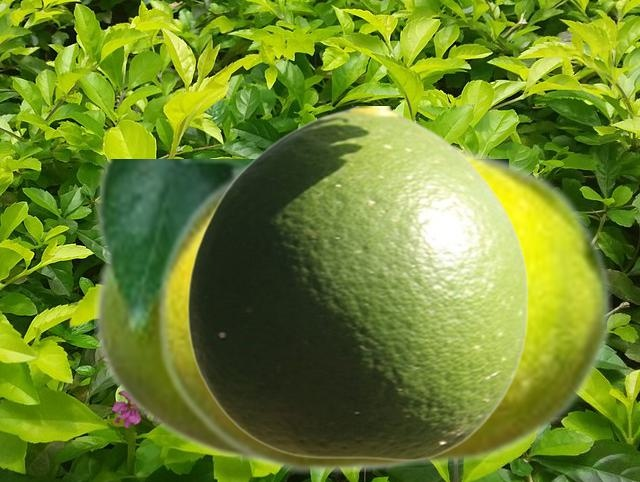dalandan: (155, 134, 611, 476), (186, 106, 528, 460), (94, 159, 270, 470)
